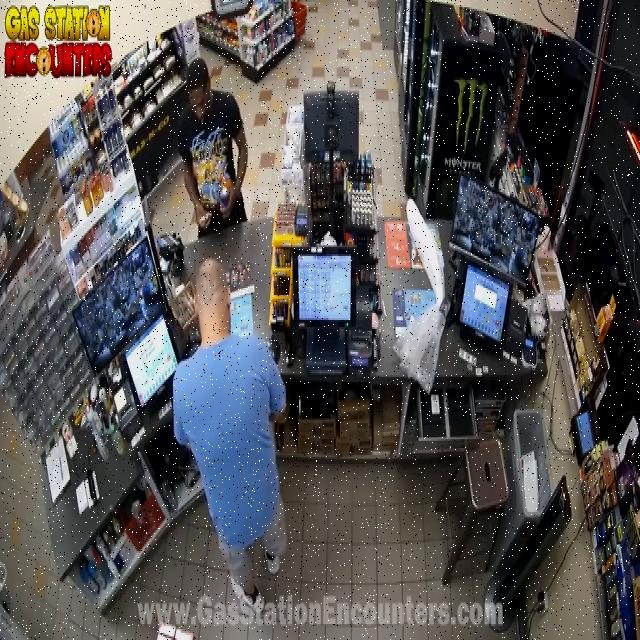article: (221, 187, 228, 204), (223, 174, 231, 188)
hands: (221, 146, 247, 220), (184, 160, 210, 228)
person: (173, 258, 286, 612), (178, 59, 247, 235)
